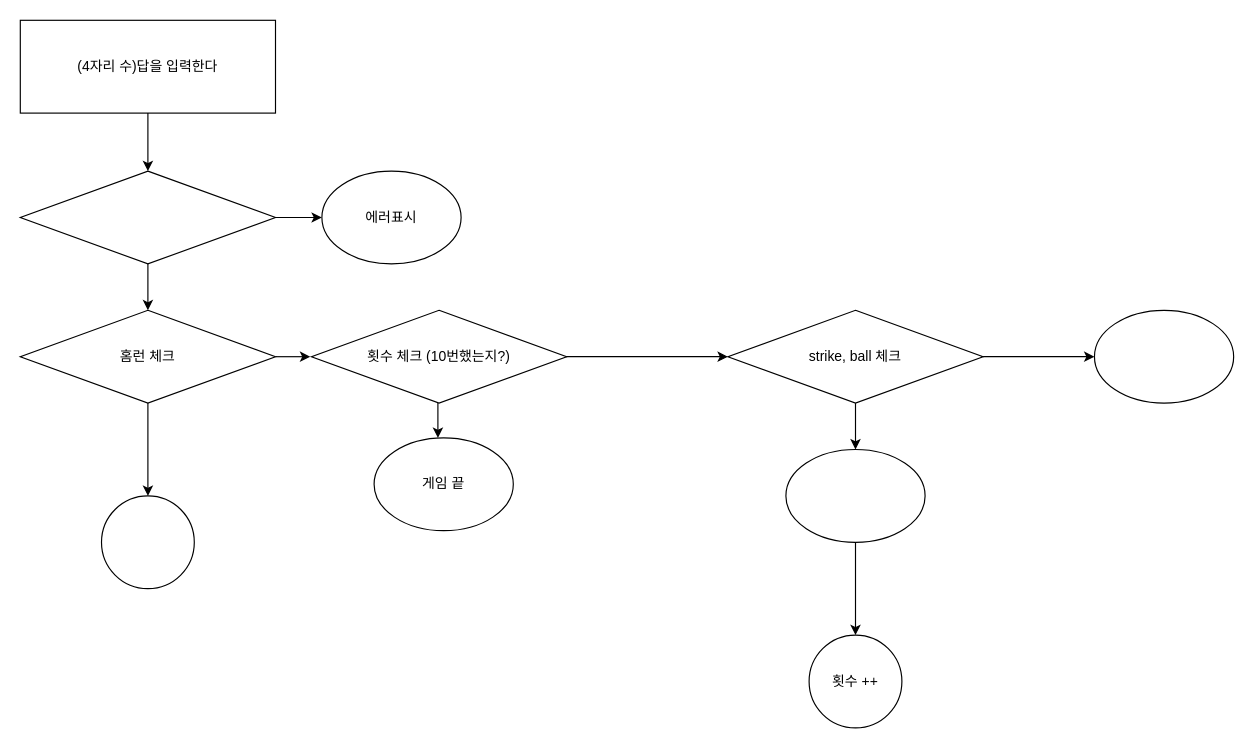
Image size: 1254x748. Some labels were removed from this diagram. The shapes that lost their labels are listed below. From the top down, each one's centre as x and y in pixels, then its label:
(147,217): 답 형식 체크
(1163,356): strike, ball 표시 out++
(855,495): strike, ball 표시
(147,542): 정답 (게임 끝)
